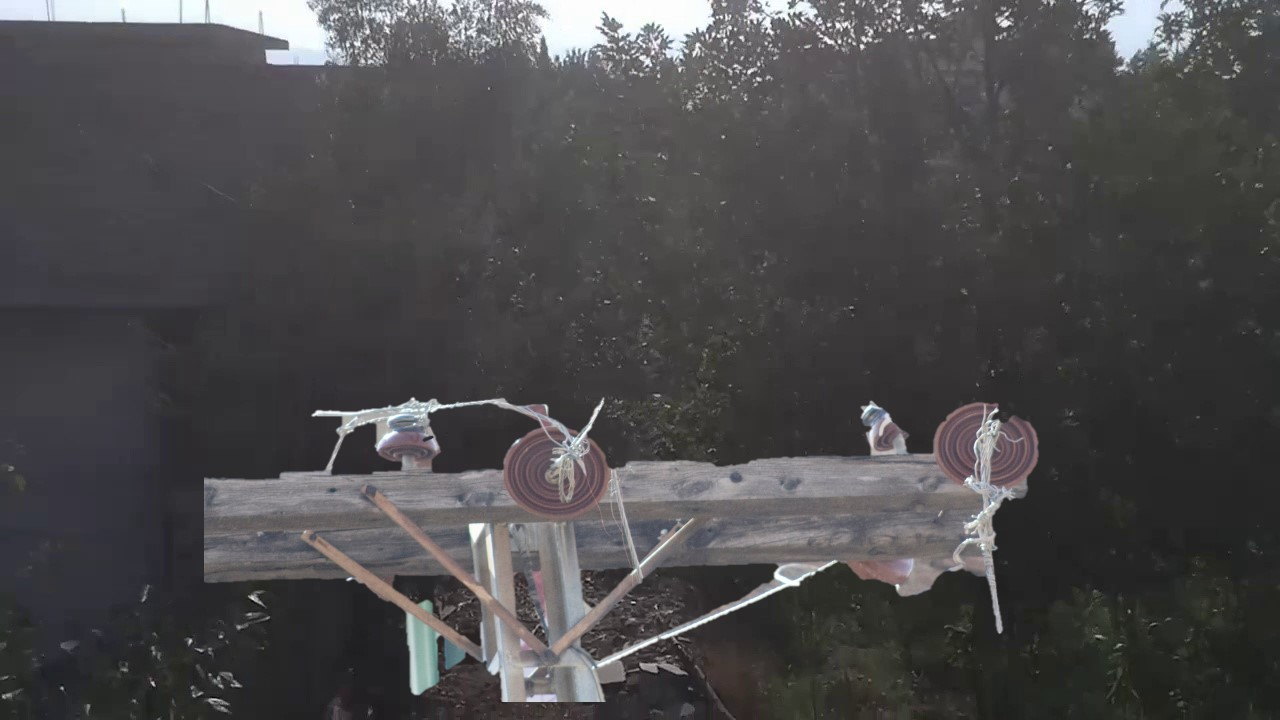defect_pin: (857, 399, 912, 459)
insulator_disc: (501, 421, 609, 522), (932, 401, 1042, 494)
insulator_pin: (371, 408, 444, 469)
